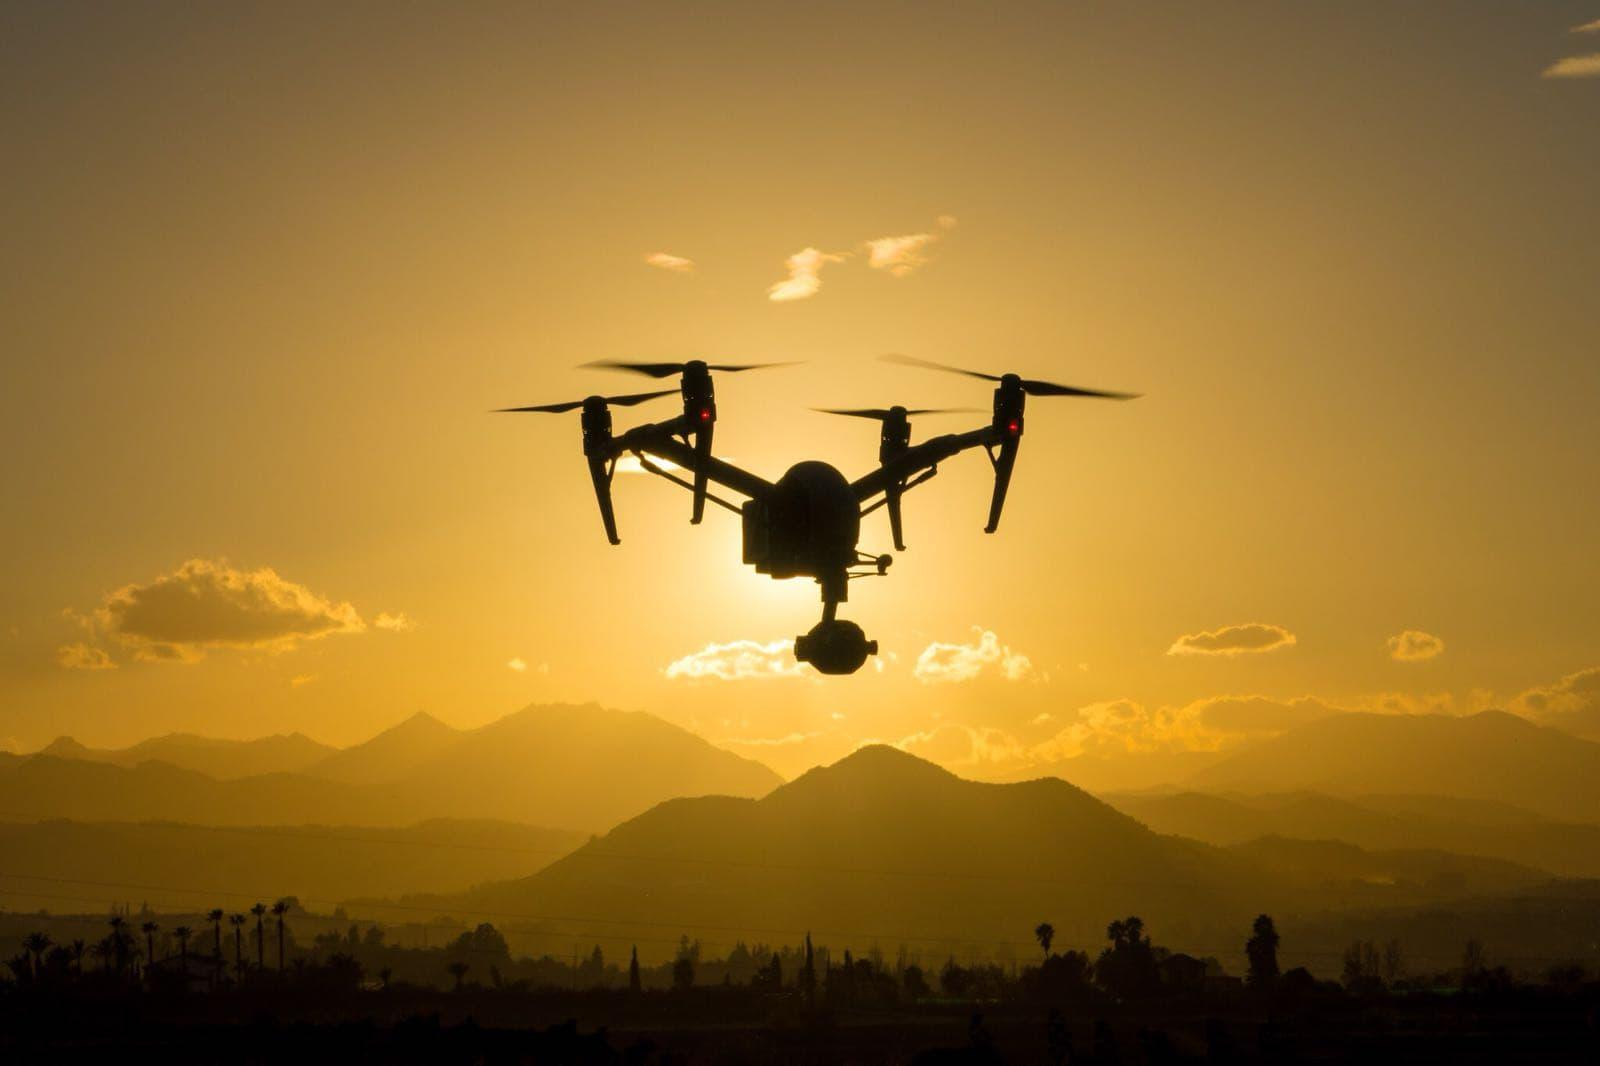drone: (468, 325, 1132, 579)
